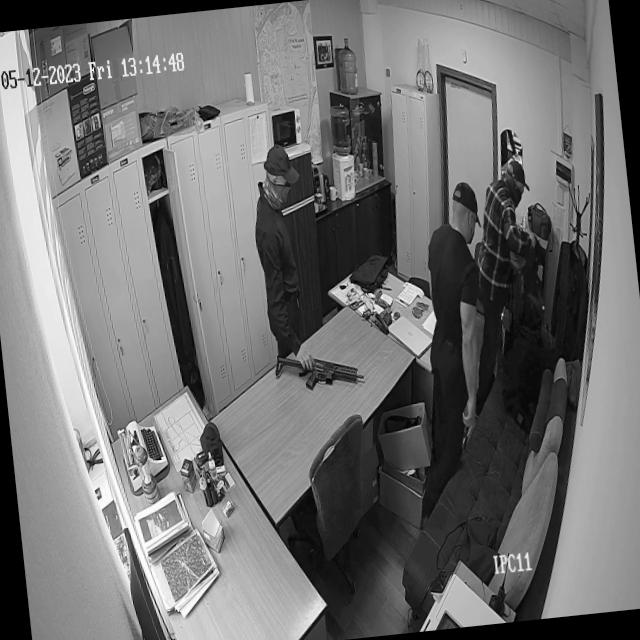gun: (272, 344, 366, 394), (458, 405, 473, 449)
person with a gun: (407, 114, 510, 488), (243, 124, 328, 416)
